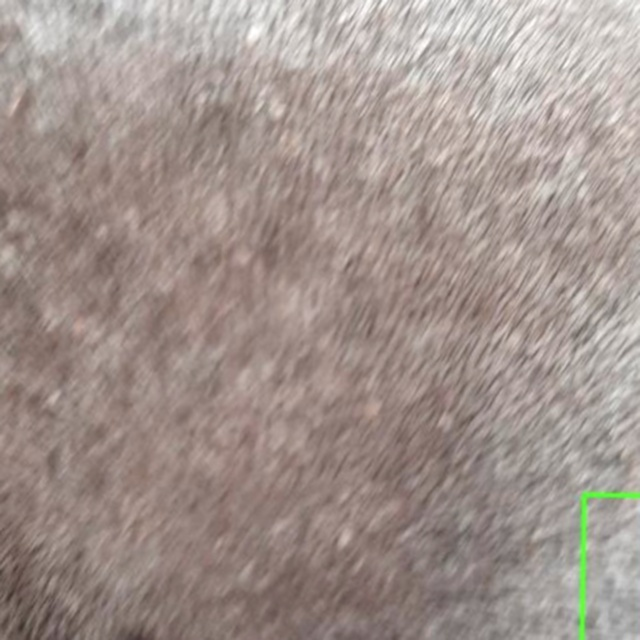Seborrheic Dermatitis: (582, 494, 639, 639)
